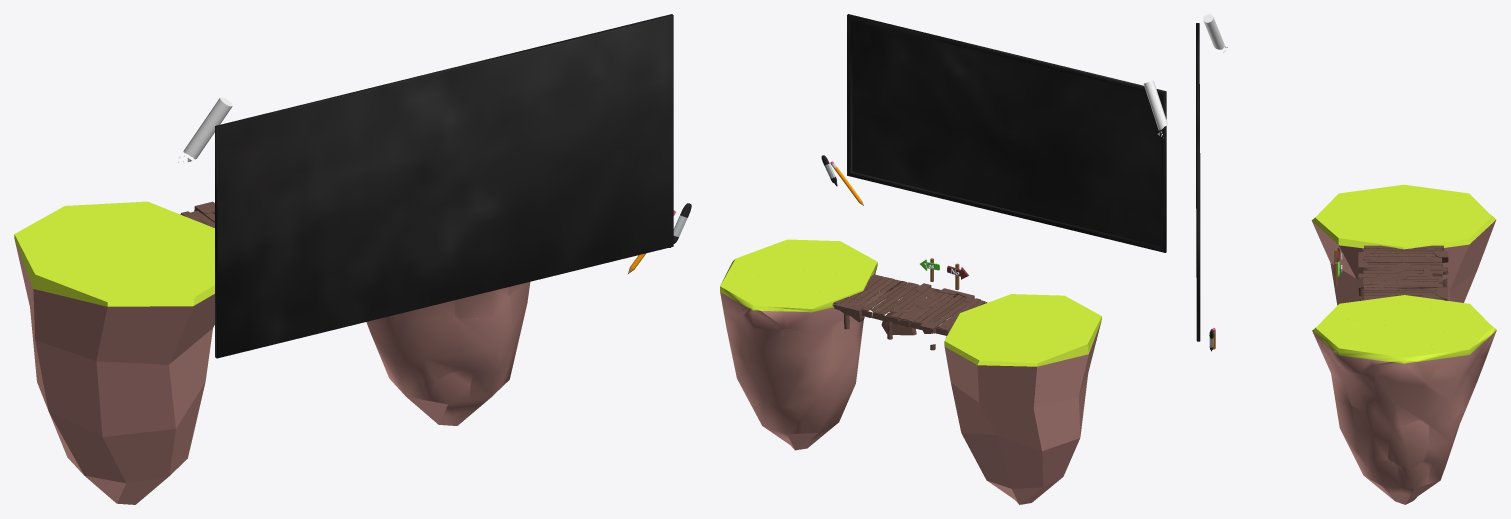
Rendered from BoomIsland.glb.
3 renders of one model, left to right at view 1: azimuth 30°, elevation 25°; view 2: azimuth 150°, elevation 25°; view 3: azimuth 270°, elevation 25°, orthographic. The views are drawn at different scales.
Visible parts, largest first — view 1: Blackboard, OLand, Xland_cell.011, Xland_cell.036, Xland_cell.012, Xland_cell.013, Xland_cell.016, Xland_cell.023, chalk, Xland_cell.033, Xland_cell.001; view 2: Blackboard, OLand, Xland_cell.035, Xland_cell.026, Xland_cell.037, Xland_cell.022, Xland_cell.042, Xland_cell.029, Xland_cell.027, Xland_cell, Xland_cell.015, Xland_cell.024 (+10 smaller); view 3: OLand, Xland_cell.009, Xland_cell.029, Xland_cell.039, Xland_cell.032, Xland_cell.001, Blackboard, Xland_cell.042, Xland_cell.018, Xland_cell.007, Xland_cell.028, Xland_cell.010 (+14 smaller).
Part boxes in pixels (box(x1,y1,x2,y2)): Blackboard: box(215, 14, 673, 358); OLand: box(14, 201, 214, 504); Xland_cell.011: box(396, 315, 463, 381); Xland_cell.036: box(455, 296, 512, 373); Xland_cell.012: box(422, 369, 473, 415); Xland_cell.013: box(454, 287, 508, 318); Xland_cell.016: box(366, 313, 402, 364); Xland_cell.023: box(463, 350, 510, 412); chalk: box(178, 97, 232, 162); Xland_cell.033: box(382, 359, 434, 411); Xland_cell.001: box(509, 282, 530, 350); Blackboard: box(847, 14, 1166, 252); OLand: box(944, 294, 1101, 504); Xland_cell.035: box(780, 324, 832, 375); Xland_cell.026: box(789, 366, 838, 415); Xland_cell.037: box(745, 360, 798, 407); Xland_cell.022: box(736, 316, 782, 364); Xland_cell.042: box(793, 270, 870, 300); Xland_cell.029: box(726, 249, 804, 278); Xland_cell.027: box(736, 279, 792, 326); Xland_cell: box(831, 321, 860, 370); Xland_cell.015: box(783, 303, 837, 333); Xland_cell.024: box(783, 278, 837, 310); OLand: box(1311, 184, 1496, 305); Xland_cell.009: box(1374, 374, 1422, 426); Xland_cell.029: box(1371, 326, 1437, 364); Xland_cell.039: box(1422, 373, 1467, 423); Xland_cell.032: box(1387, 419, 1429, 468); Xland_cell.001: box(1351, 405, 1392, 459); Blackboard: box(1196, 23, 1200, 341); Xland_cell.042: box(1372, 295, 1436, 326); Xland_cell.018: box(1372, 360, 1436, 385); Xland_cell.007: box(1334, 326, 1393, 411); Xland_cell.028: box(1326, 326, 1391, 352); Xland_cell.010: box(1426, 410, 1464, 463).
Bounding box in the file's own units: 189 × 179 × 135.
17 materials, 1 textured.
